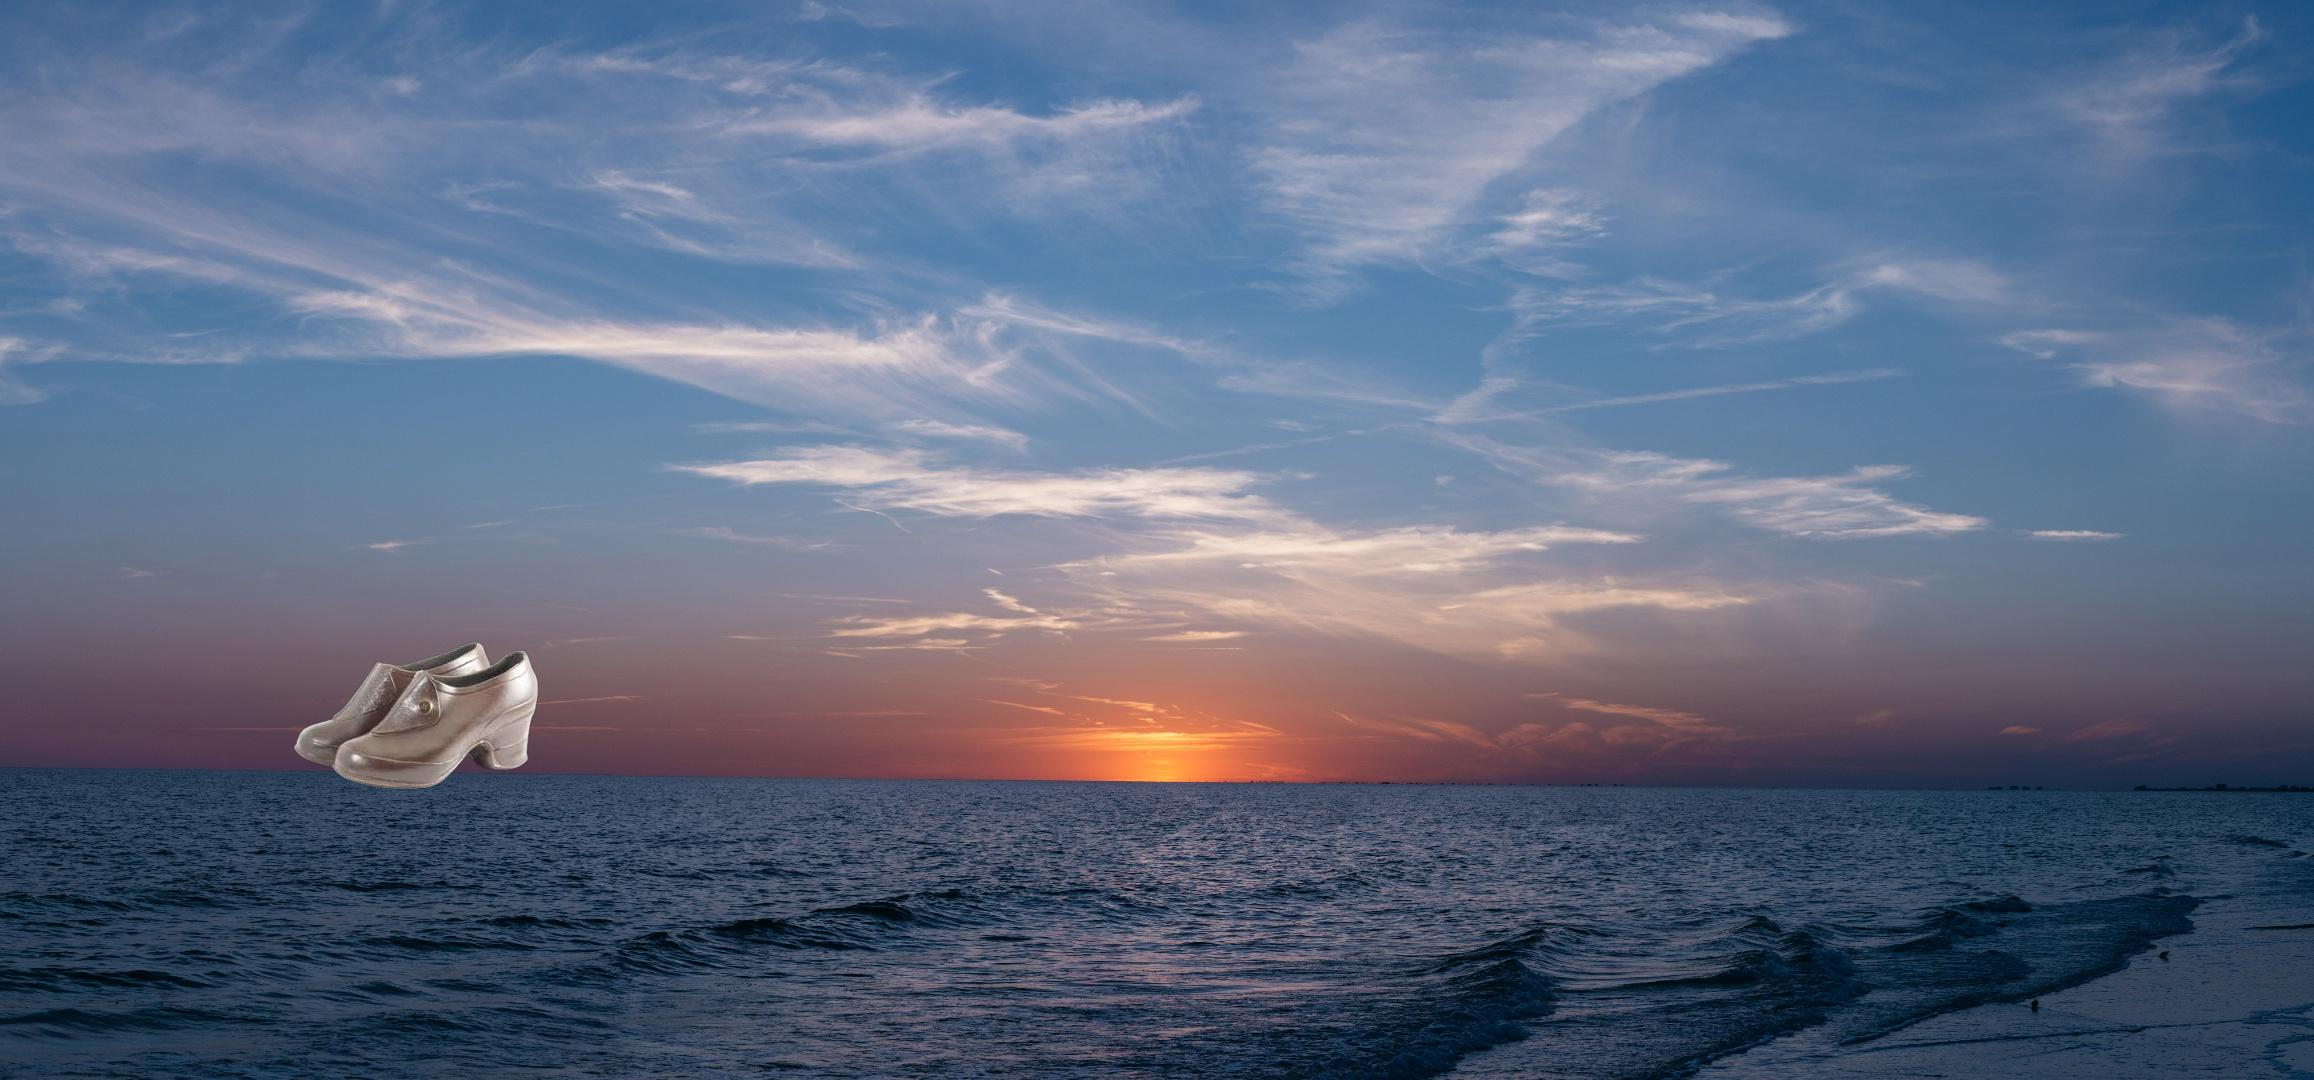shoes: (291, 639, 542, 792)
